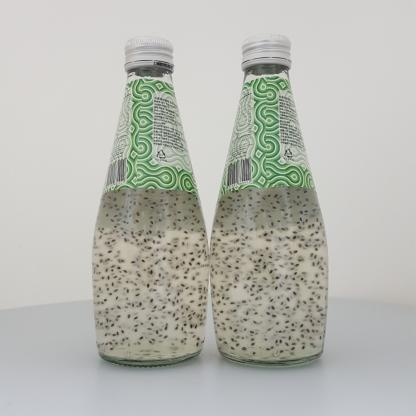------------------------: (210, 33, 329, 368), (92, 36, 209, 368)
